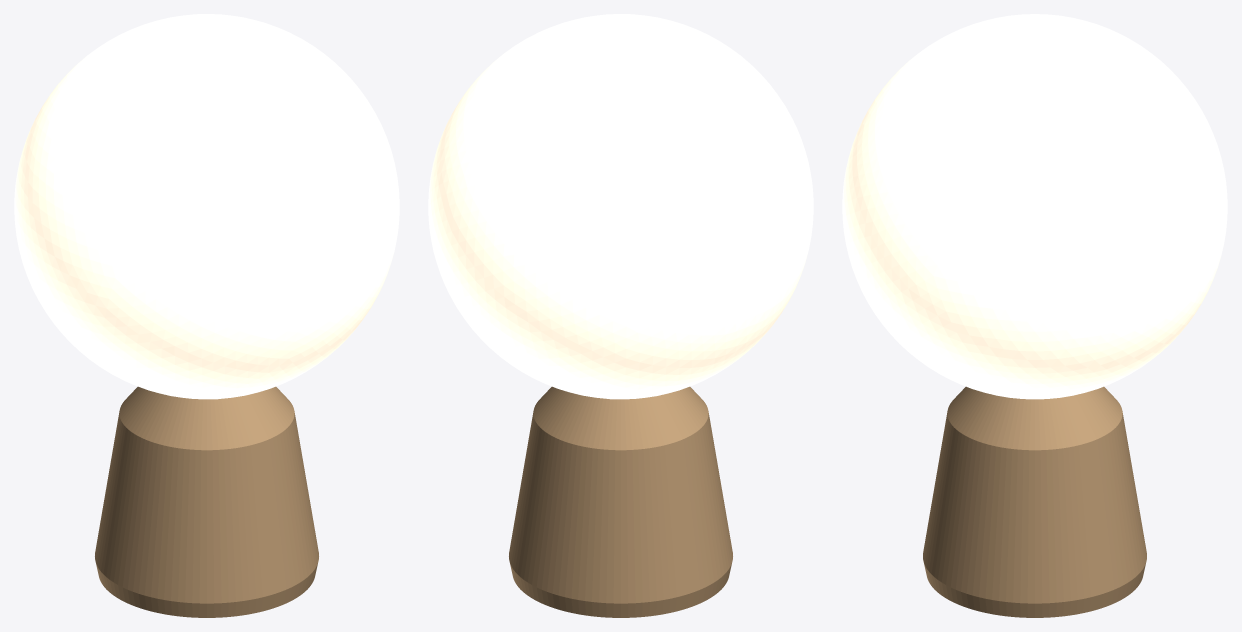
The model's file is glob-bordslampa-opalglas.glb.
3 views of the same model, side by side, from view 1: azimuth 30°, elevation 25°; view 2: azimuth 150°, elevation 25°; view 3: azimuth 270°, elevation 25° (orthographic).
Parts seen in each view (by area): view 1: glob-bordslampa-opalglas-1, glob-bordslampa-opalglas-0; view 2: glob-bordslampa-opalglas-1, glob-bordslampa-opalglas-0; view 3: glob-bordslampa-opalglas-1, glob-bordslampa-opalglas-0.
Boxes of the visible parts, <box> form: glob-bordslampa-opalglas-1: <box>14,14,399,399</box>; glob-bordslampa-opalglas-0: <box>95,386,318,617</box>; glob-bordslampa-opalglas-1: <box>428,14,813,399</box>; glob-bordslampa-opalglas-0: <box>509,386,732,617</box>; glob-bordslampa-opalglas-1: <box>842,14,1227,399</box>; glob-bordslampa-opalglas-0: <box>923,386,1146,617</box>.
Bounding box in the file's own units: 0.22 × 0.34 × 0.22.
